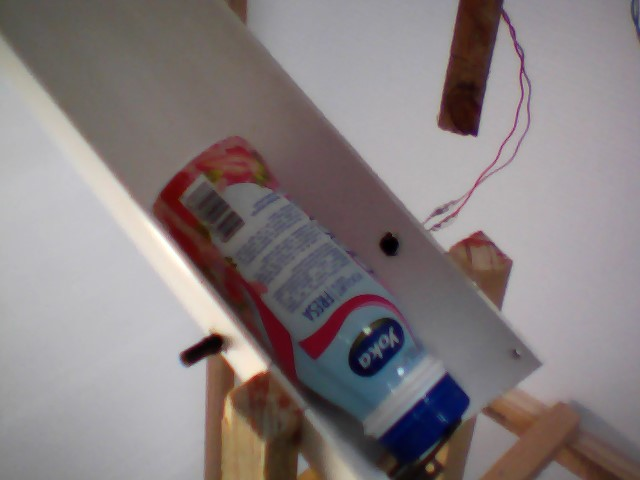plastico: (144, 132, 476, 469)
